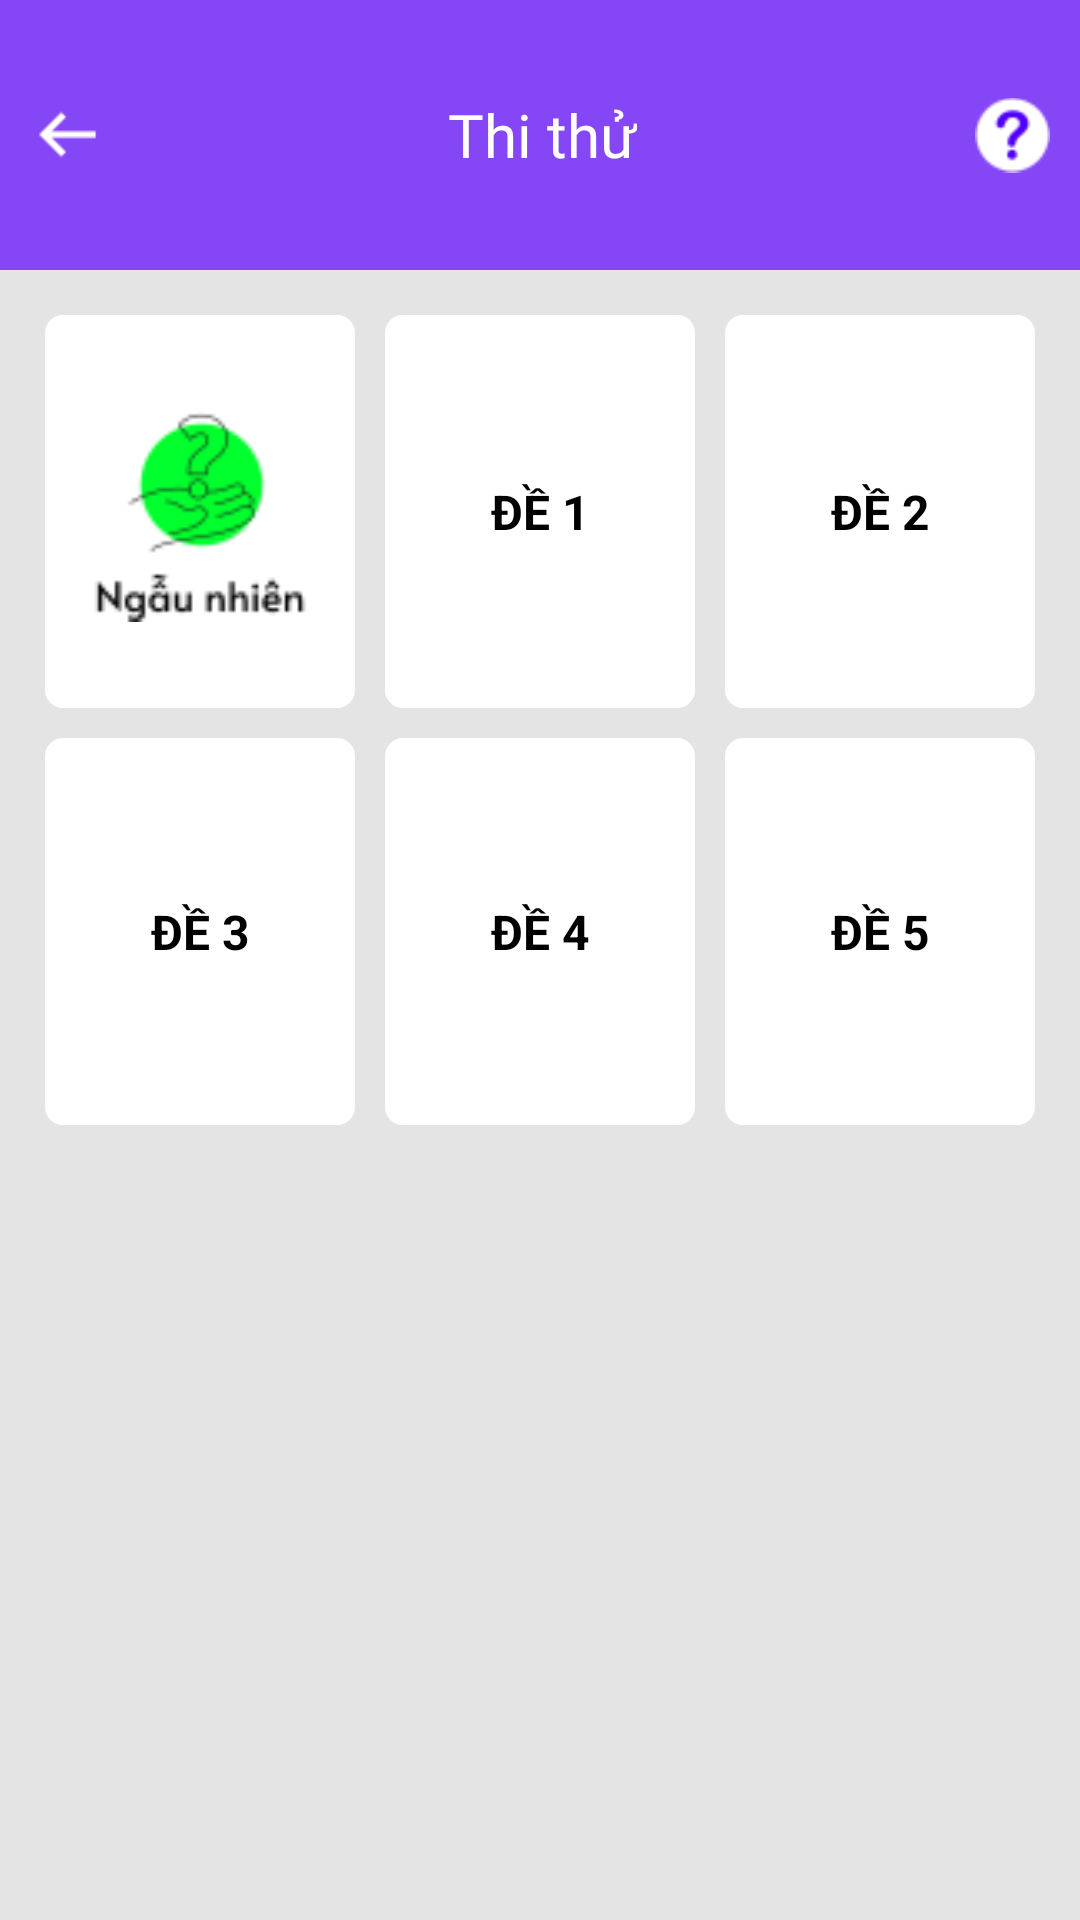

Icons on this 1080x1920 Android screen, each with its box as (x1, y1, x2, y2):
back: (39, 112, 96, 157)
